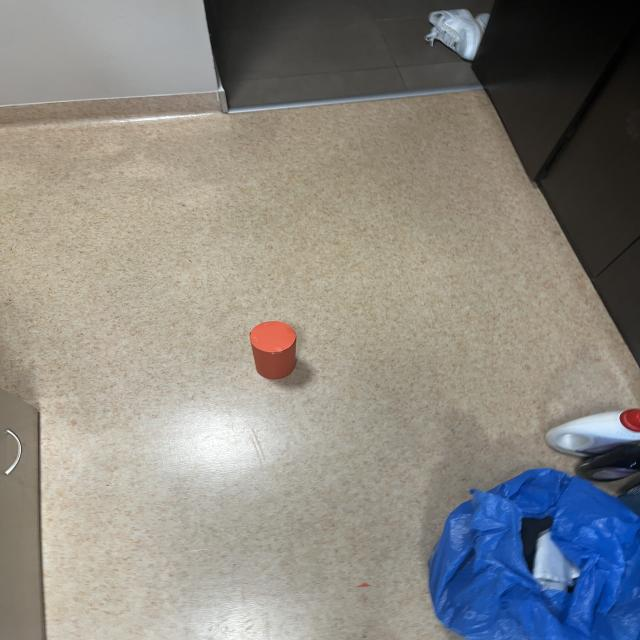przeszkoda: (250, 321, 296, 379)
